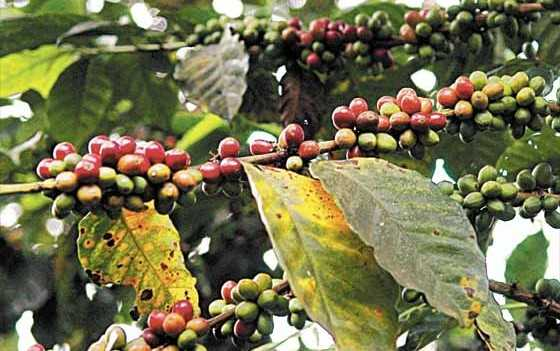roya: (247, 164, 389, 318), (76, 202, 205, 306)
